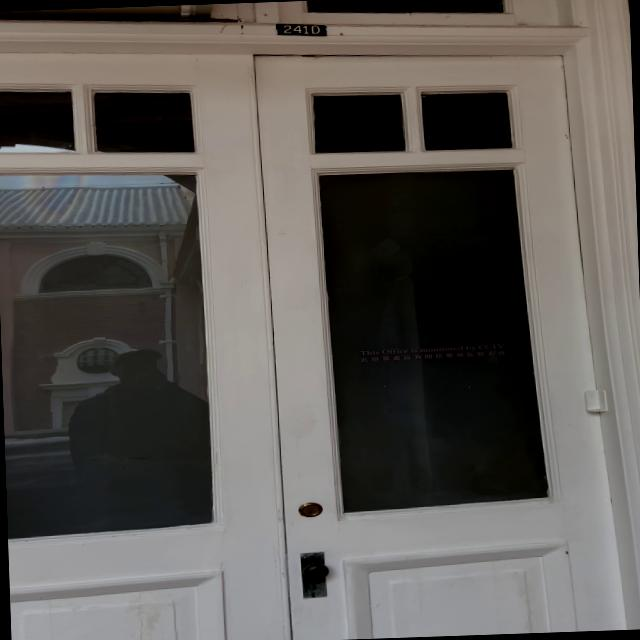room241d: (274, 20, 328, 38)
